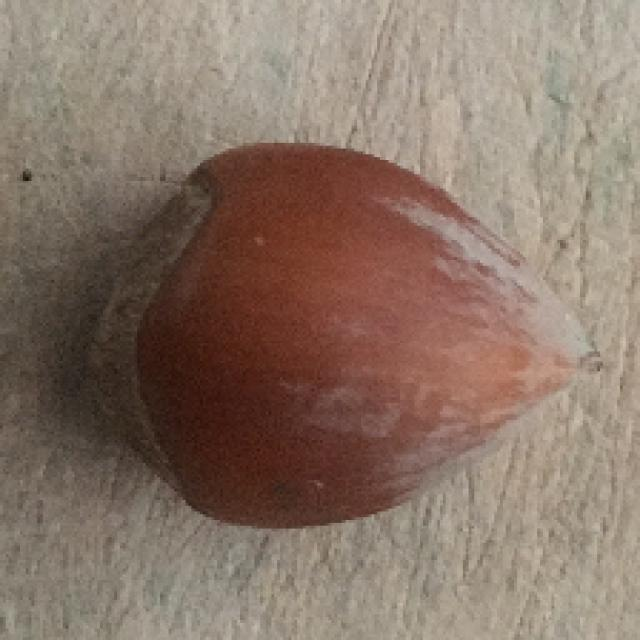qualityHazelnut: (101, 141, 603, 527)
